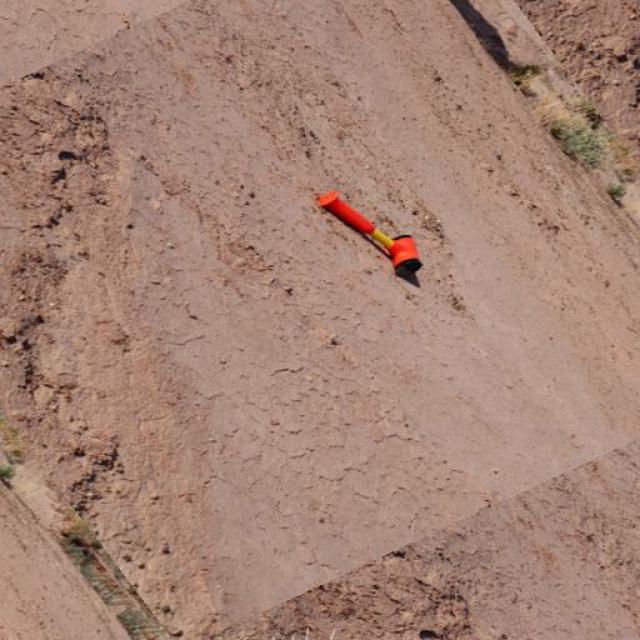mallet: (316, 189, 425, 276)
